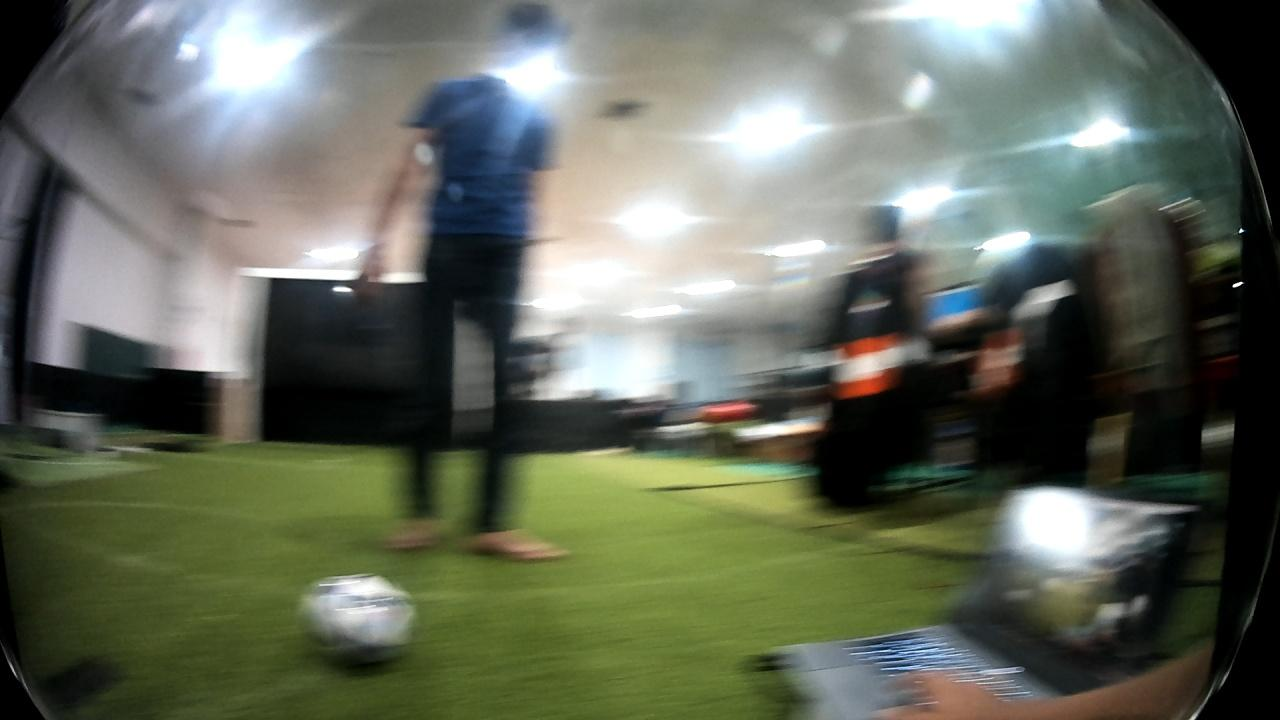ball: (297, 563, 424, 682)
